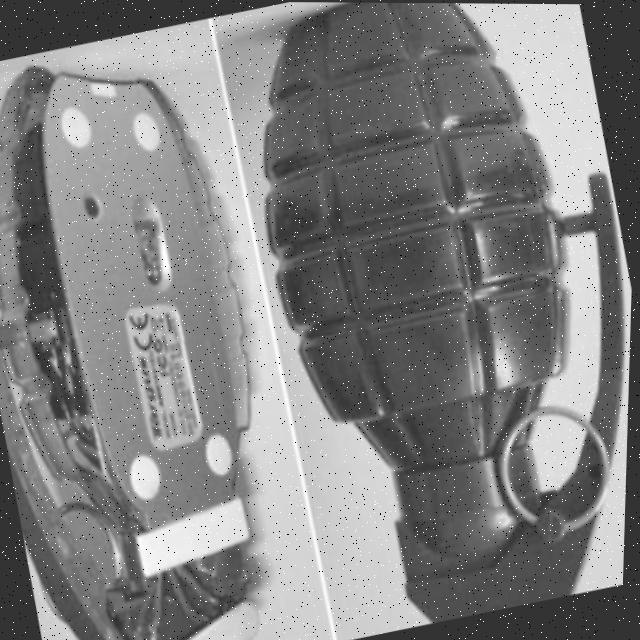grenade: (202, 1, 640, 640)
